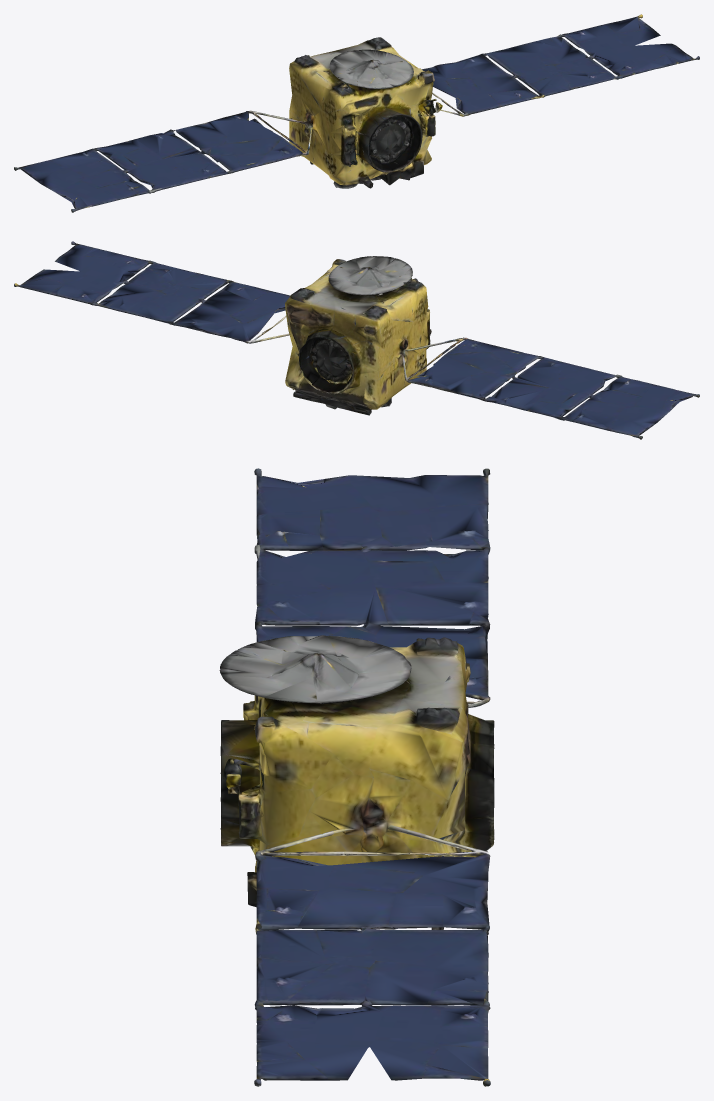
File: hera-low.glb
3 renders of one model, top to bottom at view 1: azimuth 30°, elevation 25°; view 2: azimuth 150°, elevation 25°; view 3: azimuth 270°, elevation 25°, orthographic. The views are drawn at different scales.
Bounding box in the file's own units: 1.9 × 0.3701 × 0.36.
Materials: 1 (1 with a texture image).
